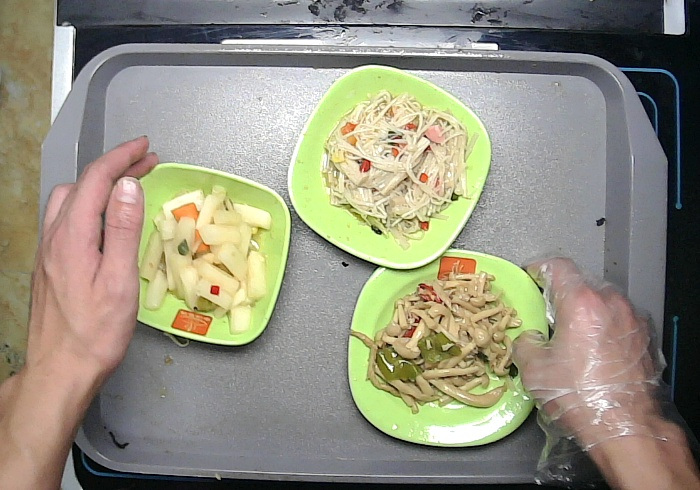SHKJ-Lv_Se_Cai_Die: (285, 61, 492, 270)
SHKJ-Lv_Se_Si_Fang_Cai_Die: (344, 247, 552, 449)
SHKJ-Lv_Se_Xiao_Fang_Die: (108, 163, 291, 348)
